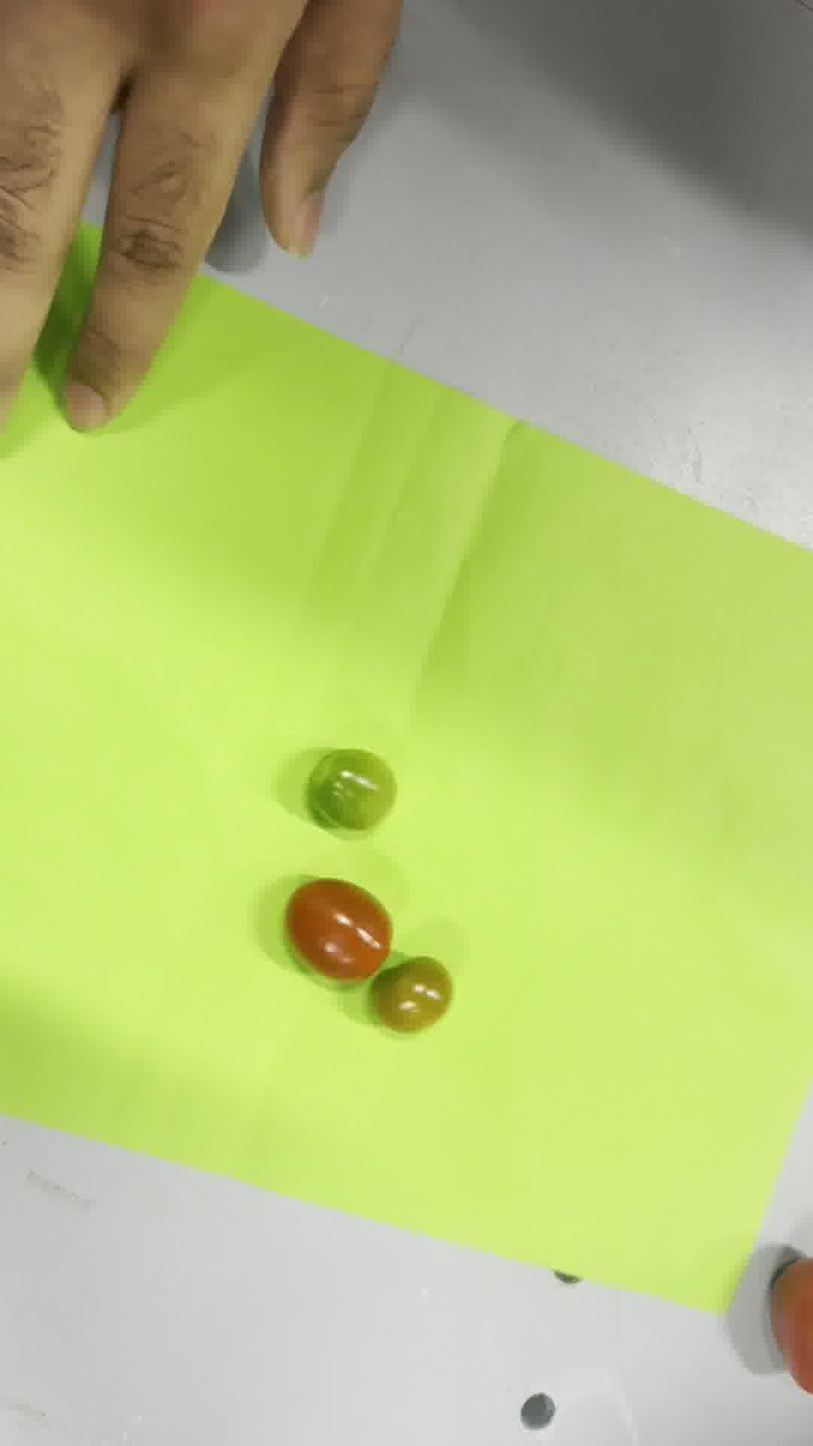green_cherry_tomato: (305, 748, 397, 834)
red_cherry_tomato: (285, 878, 391, 984)
yellow_cherry_tomato: (371, 956, 453, 1033)
